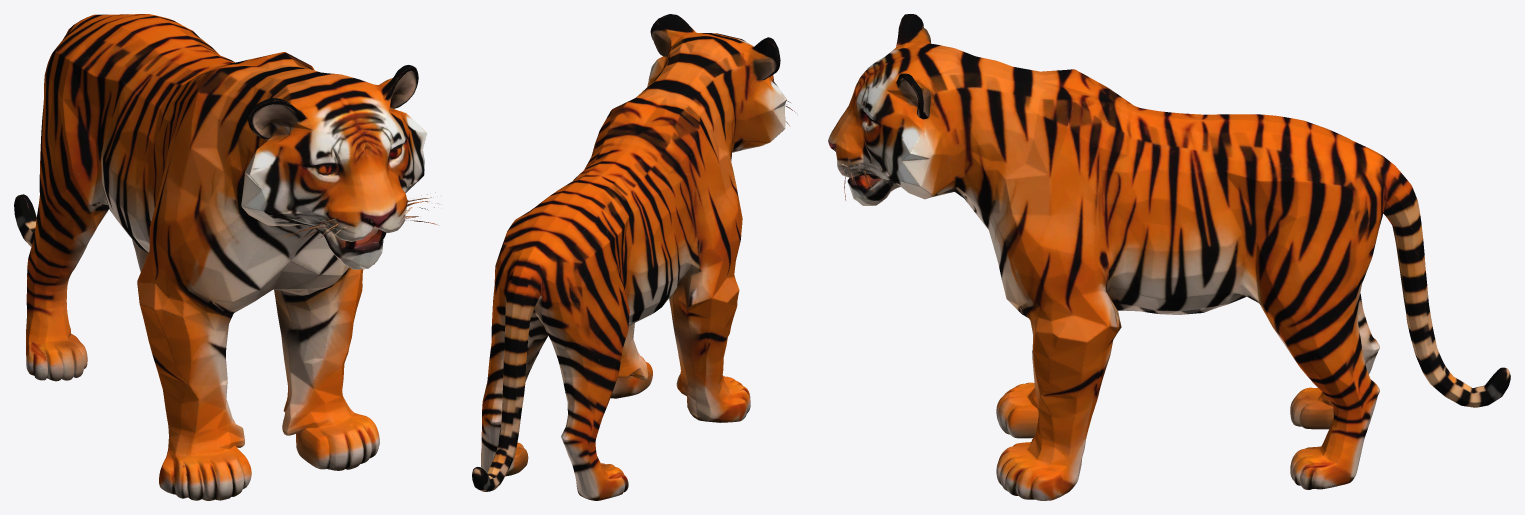
The model's file is Tiger.fbx.
3 views of the same model, side by side, from view 1: azimuth 30°, elevation 25°; view 2: azimuth 150°, elevation 25°; view 3: azimuth 270°, elevation 25° (orthographic). The views are drawn at different scales.
Visible parts, largest first — view 1: world; view 2: world; view 3: world.
Boxes of the visible parts, x1,y1,x2,y2 form: world: (14, 14, 439, 500); world: (472, 14, 794, 500); world: (828, 14, 1510, 500).
Bounding box in the file's own units: 66.7 × 133 × 200.
Materials: 1 (1 with a texture image).
